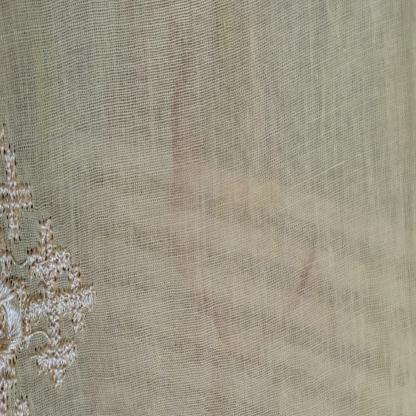spot: (265, 201, 328, 365), (155, 8, 203, 208)
